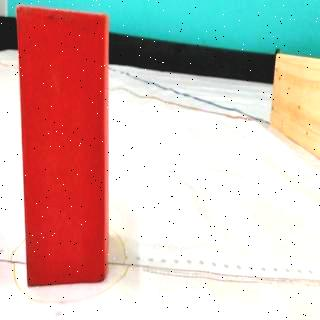redbox: (16, 7, 109, 287)
